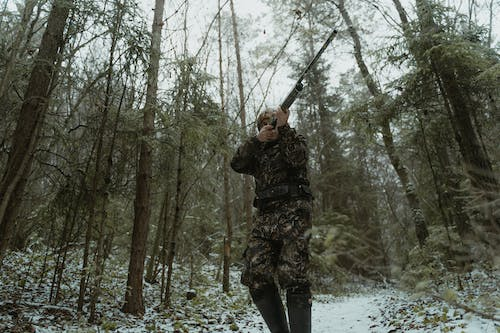gun: (269, 28, 339, 129)
